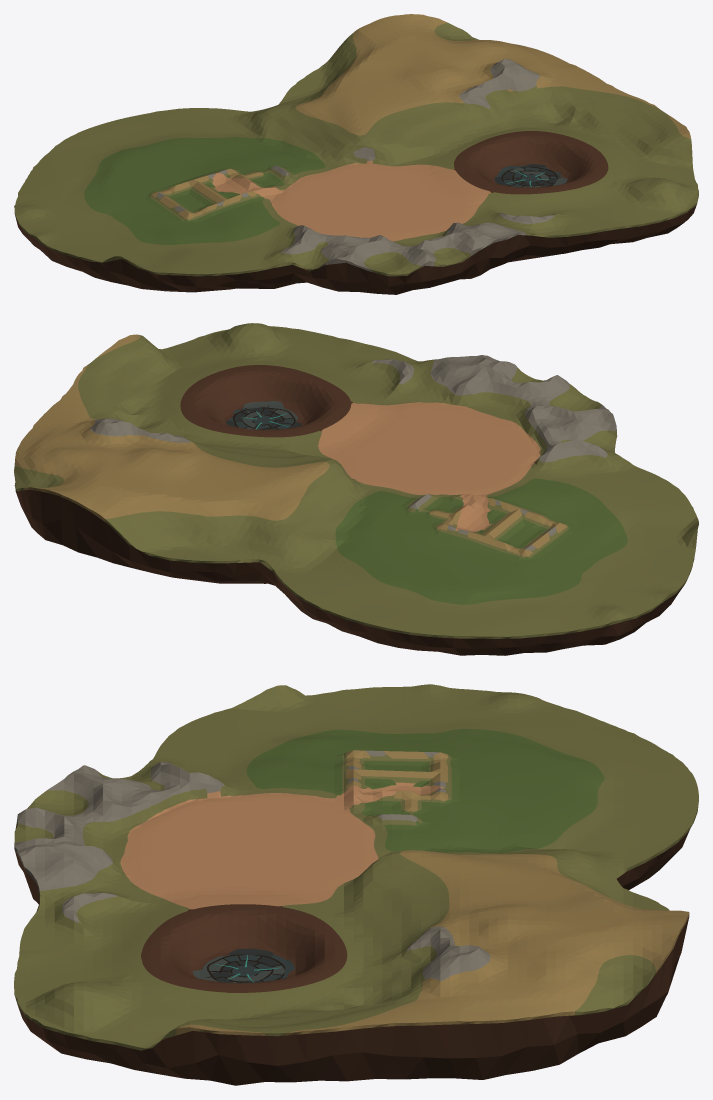
The model's file is chronos-hearth-terrain-764465.glb.
3 views of the same model, one above another, from view 1: azimuth 30°, elevation 25°; view 2: azimuth 150°, elevation 25°; view 3: azimuth 270°, elevation 25° (orthographic). The views are drawn at different scales.
Parts seen in each view (by area): view 1: settlement-ground; view 2: settlement-ground; view 3: settlement-ground.
Part boxes in pixels (bbox=[...]): settlement-ground: bbox=[14, 14, 698, 294]; settlement-ground: bbox=[14, 323, 698, 655]; settlement-ground: bbox=[14, 684, 698, 1085].
Size of the model in its own units: 95.04 by 15.74 by 71.04.
